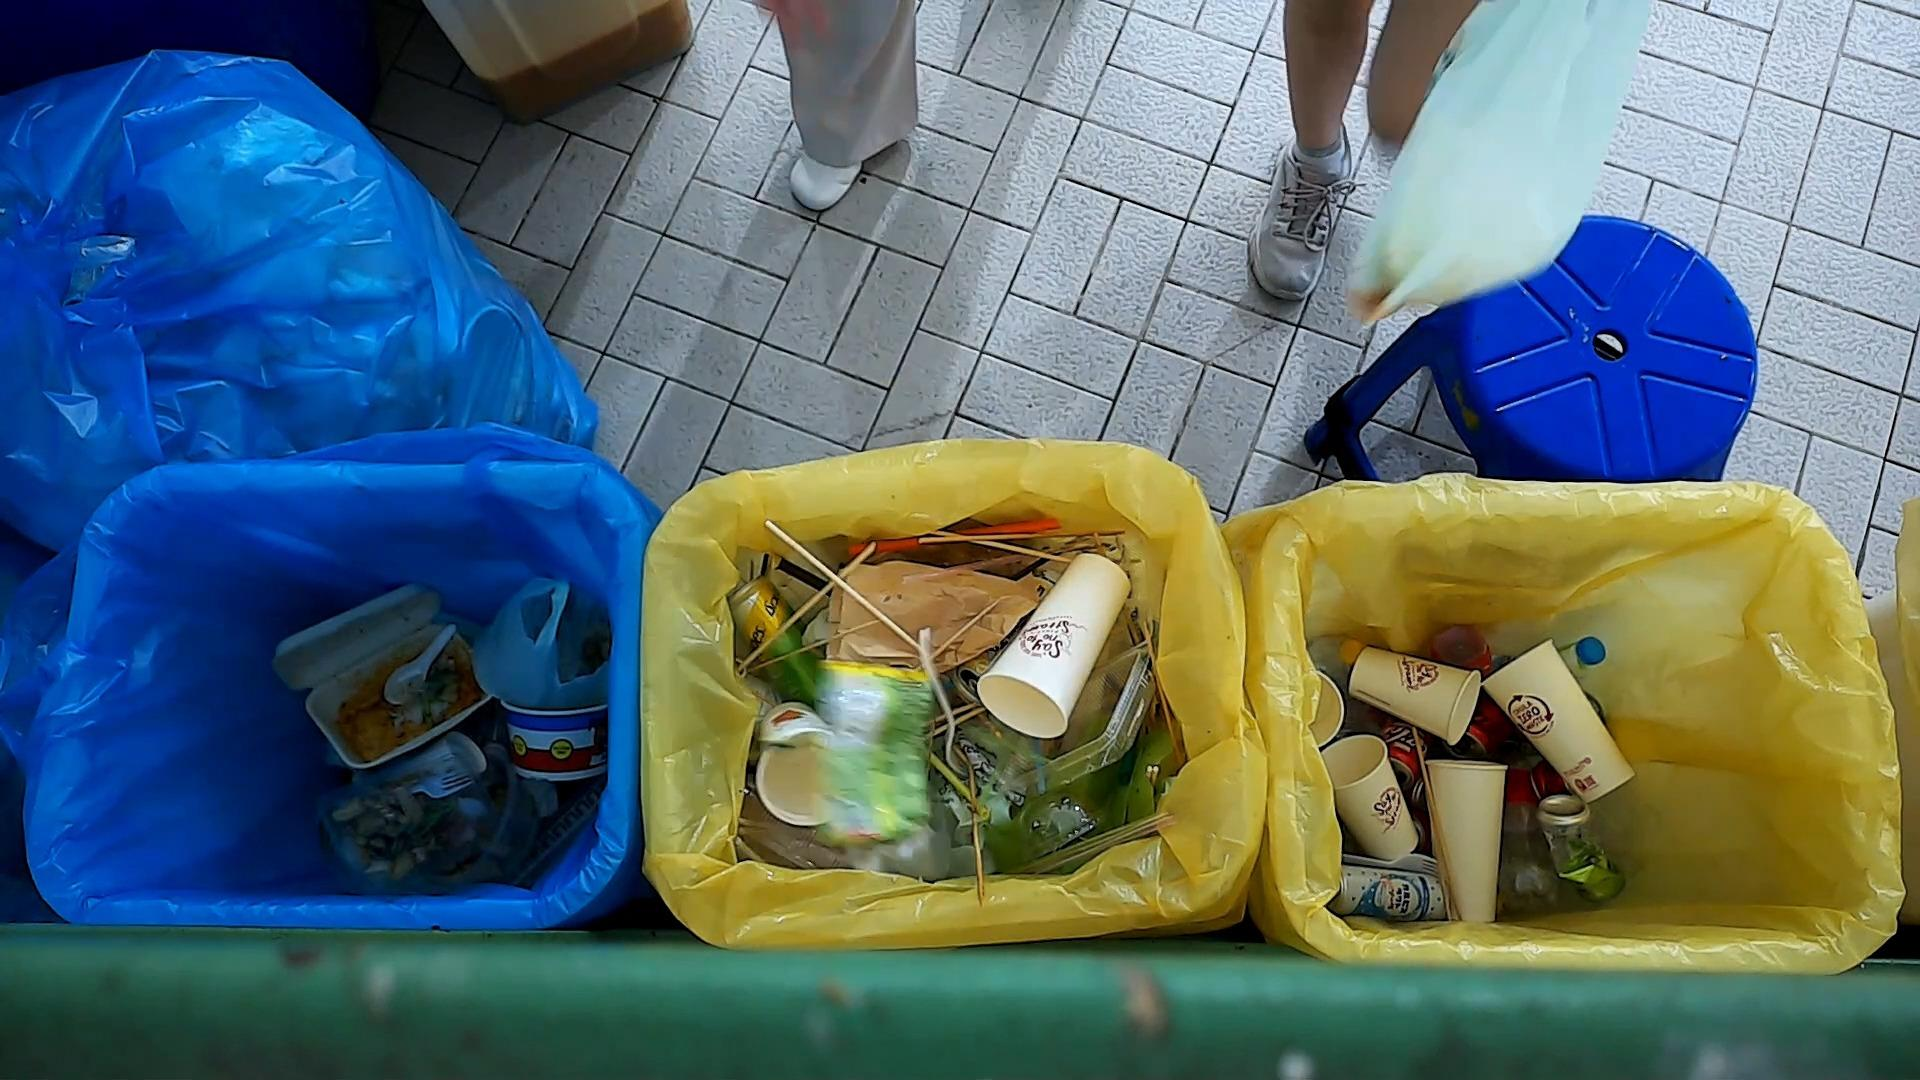can: (725, 572, 831, 713), (1532, 791, 1630, 909), (1325, 864, 1449, 923)
dirty food container: (268, 572, 492, 777), (303, 733, 566, 901)
filled plastic bag: (1335, 0, 1667, 343), (467, 570, 616, 713)
food container: (993, 634, 1160, 800), (493, 694, 611, 786)
paper bag: (823, 556, 1036, 667)
plastic cutlery: (911, 622, 969, 781), (381, 621, 463, 709), (1336, 849, 1441, 881)
snack packaging: (808, 654, 938, 857)
sticks: (729, 527, 889, 673), (760, 517, 920, 654), (1407, 724, 1465, 924), (746, 617, 881, 678), (913, 595, 1007, 675), (923, 525, 1072, 567), (1135, 615, 1178, 752), (915, 525, 1131, 547), (963, 746, 988, 909)
straw: (897, 550, 1036, 592)
zero waste cup: (976, 550, 1133, 740), (1477, 634, 1639, 810), (1345, 642, 1484, 748), (1423, 757, 1510, 924), (1319, 732, 1422, 861), (749, 702, 847, 829)
